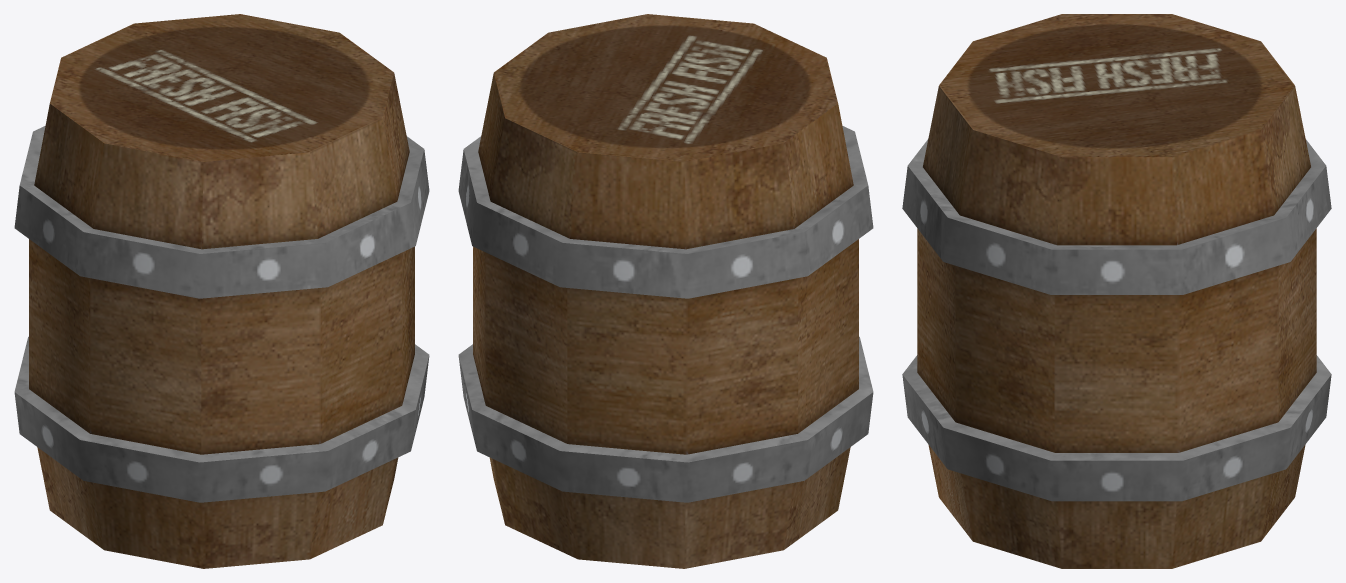
Rendered from barrel.fbx.
3 views of the same model, side by side, from view 1: azimuth 30°, elevation 25°; view 2: azimuth 150°, elevation 25°; view 3: azimuth 270°, elevation 25° (orthographic).
Visible parts, largest first — view 1: Cylinder.016; view 2: Cylinder.016; view 3: Cylinder.016.
Part boxes in pixels (x1=…): Cylinder.016: x1=14, y1=14, x2=429, y2=568; Cylinder.016: x1=458, y1=14, x2=873, y2=568; Cylinder.016: x1=902, y1=14, x2=1331, y2=568.
Size of the model in its own units: 200 by 222 by 210.
Materials: 1 (1 with a texture image).
